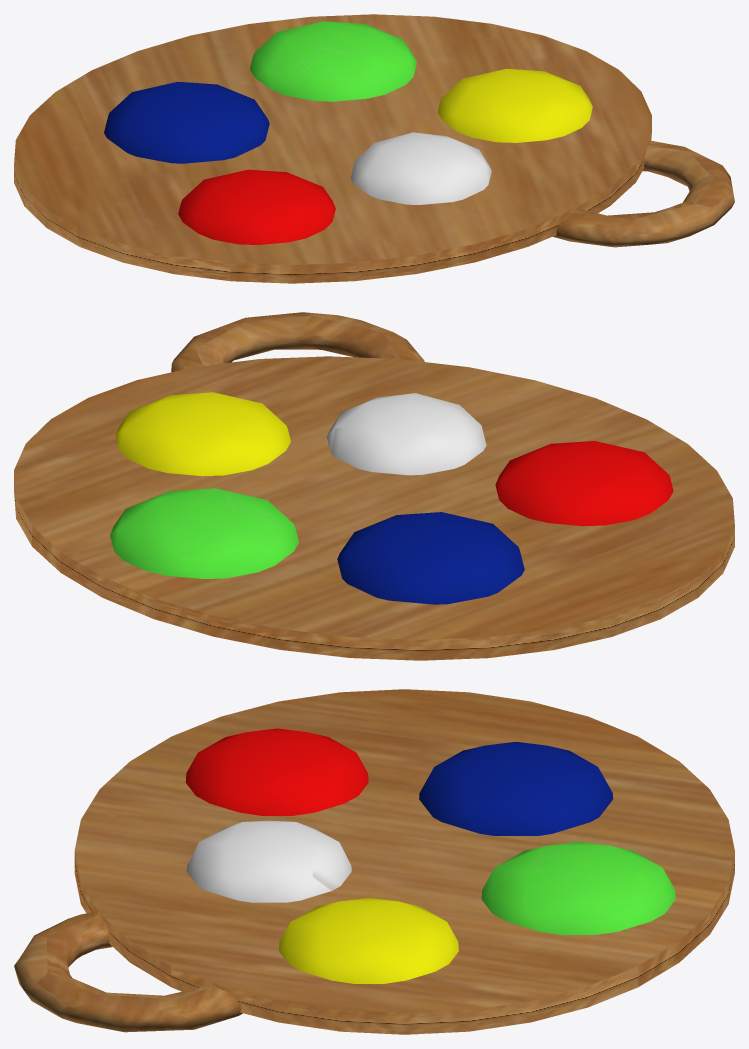
Rendered from paint tray.dae.
The picture shows the model from 3 angles, top to bottom: view 1: azimuth 30°, elevation 25°; view 2: azimuth 150°, elevation 25°; view 3: azimuth 270°, elevation 25°; orthographic projection. The views are drawn at different scales.
Visible parts, largest first — view 1: Cylinder; view 2: Cylinder; view 3: Cylinder.
Boxes of the visible parts, box(x1,y1,x2,y2) form: Cylinder: box(14, 14, 734, 283); Cylinder: box(14, 312, 734, 660); Cylinder: box(14, 689, 734, 1034).
Size of the model in its own units: 0.2784 by 0.2617 by 0.0285.
1 material, 1 textured.
